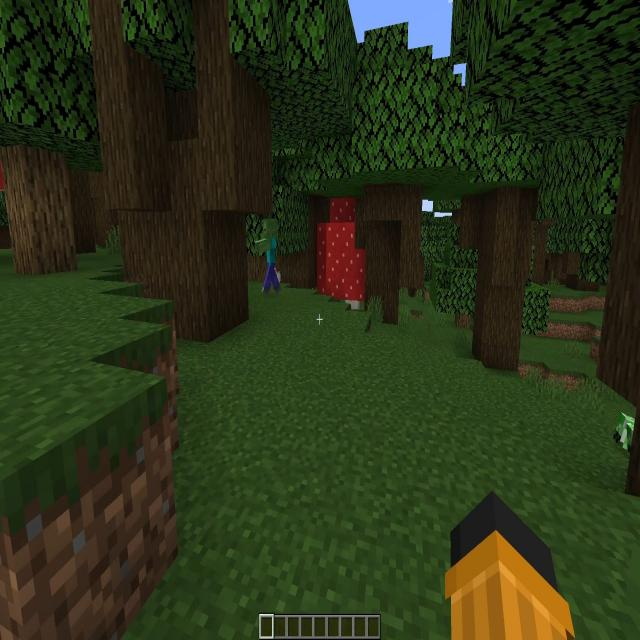Creeper: (615, 412, 635, 451)
Zombie: (258, 218, 282, 294)
